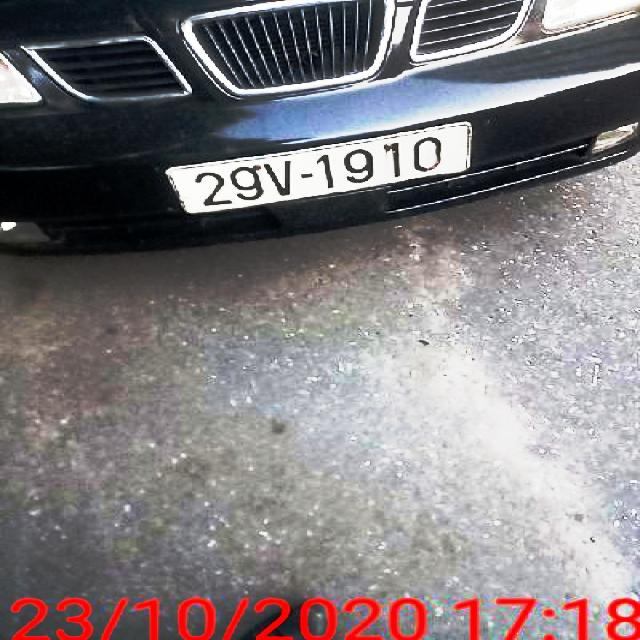license_plate: (170, 124, 472, 217)
